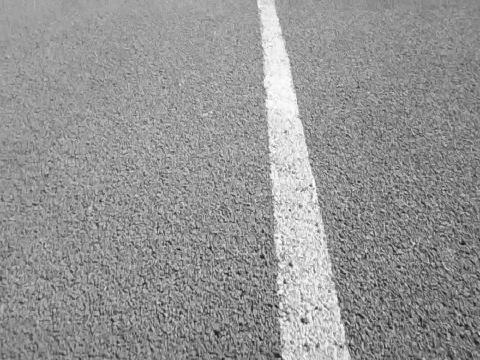Lines: (256, 0, 354, 360)
